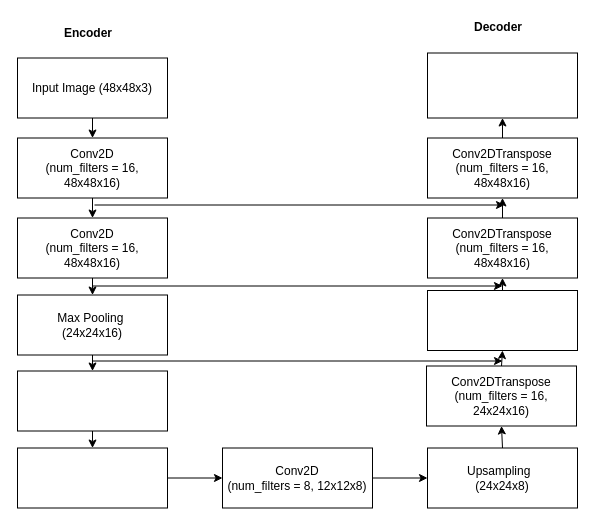
Image size: 595x526. Some labels were removed from this diagram. Here are the shapes that lost their labels. From the top down, the centre of each, then its label:
At [502,85]: "Output (48x48x3)".
At [502,320]: "Upsampling (48x48x16)".
At [92,400]: "Conv2D (num_filters = 16, 24x24x16)".
At [92,477]: "Max Pooling (12x12x16)".
